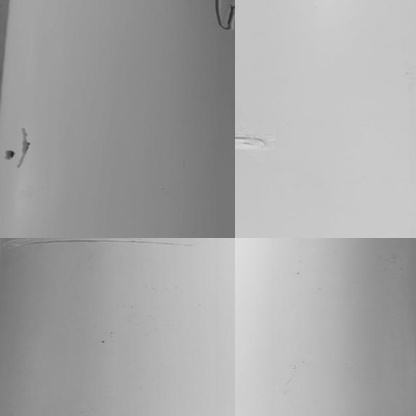fengxi: (211, 1, 234, 29)
kongdong: (4, 126, 31, 170)
sunshang: (233, 133, 259, 149)
